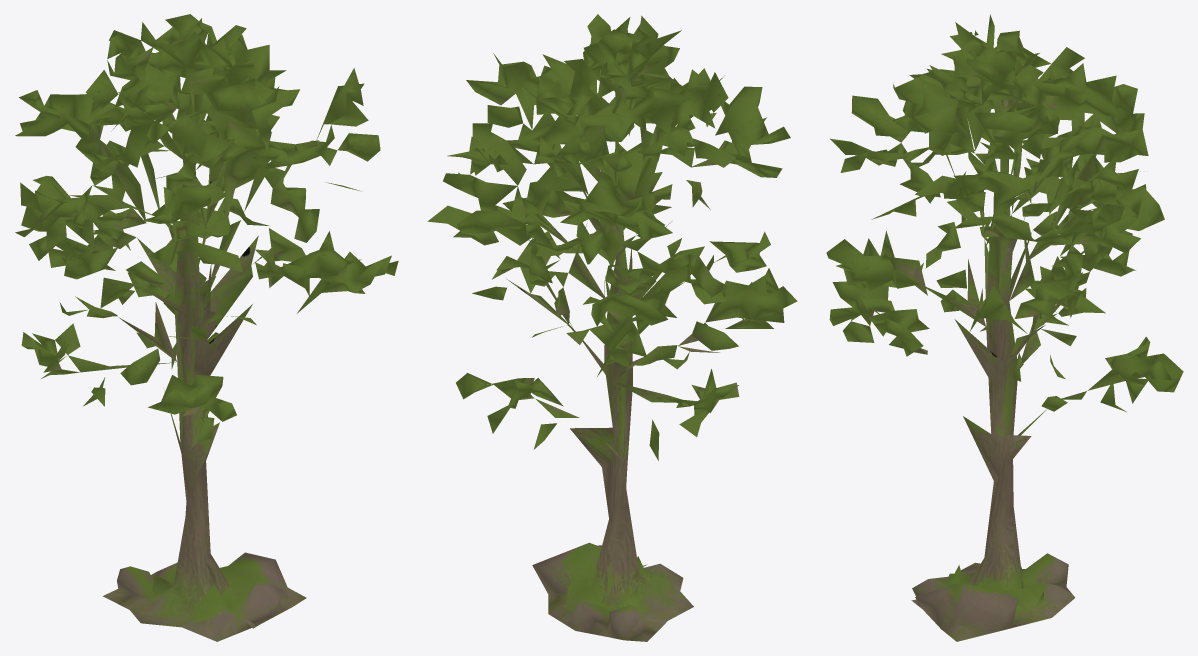
The model's file is tree-verdant.glb.
The picture shows the model from 3 angles, left to right: view 1: azimuth 30°, elevation 25°; view 2: azimuth 150°, elevation 25°; view 3: azimuth 270°, elevation 25°; orthographic projection. The views are drawn at different scales.
Parts seen in each view (by area): view 1: Mesh1.0; view 2: Mesh1.0; view 3: Mesh1.0.
Boxes of the visible parts, x1,y1,x2,y2 form: Mesh1.0: (15,14,398,641); Mesh1.0: (427,14,797,641); Mesh1.0: (826,14,1183,641).
Size of the model in its own units: 0.9962 by 1.8 by 1.04.
Materials: 1 (1 with a texture image).
